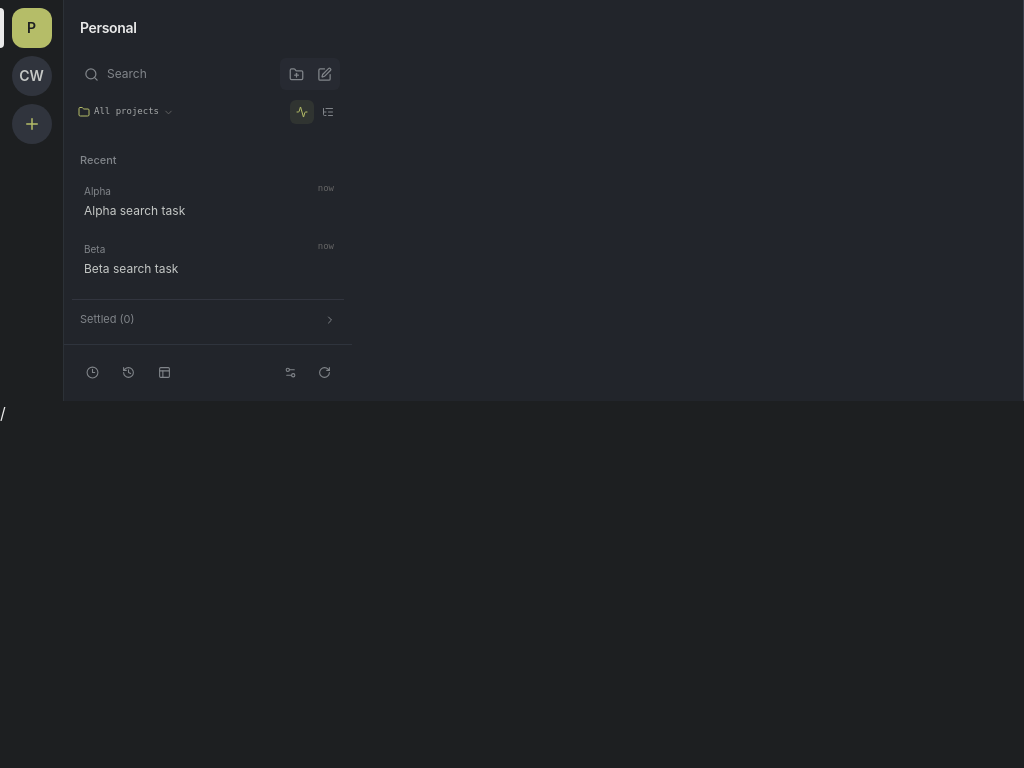
Scenario: profile rail › keeps the dialog open with the server error when creation fails
Click the button named "Create a profile": (32, 124) [12,104,52,144]
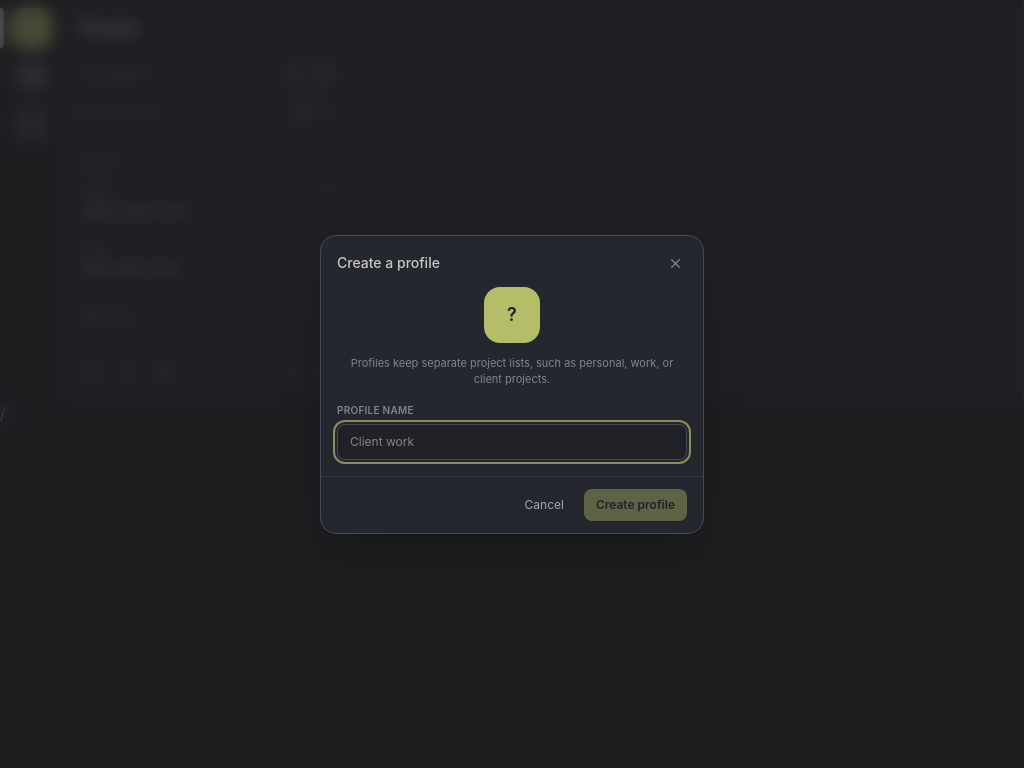
In the field labelled "Profile name": (512, 442) [337,424,687,460], type "Personal"
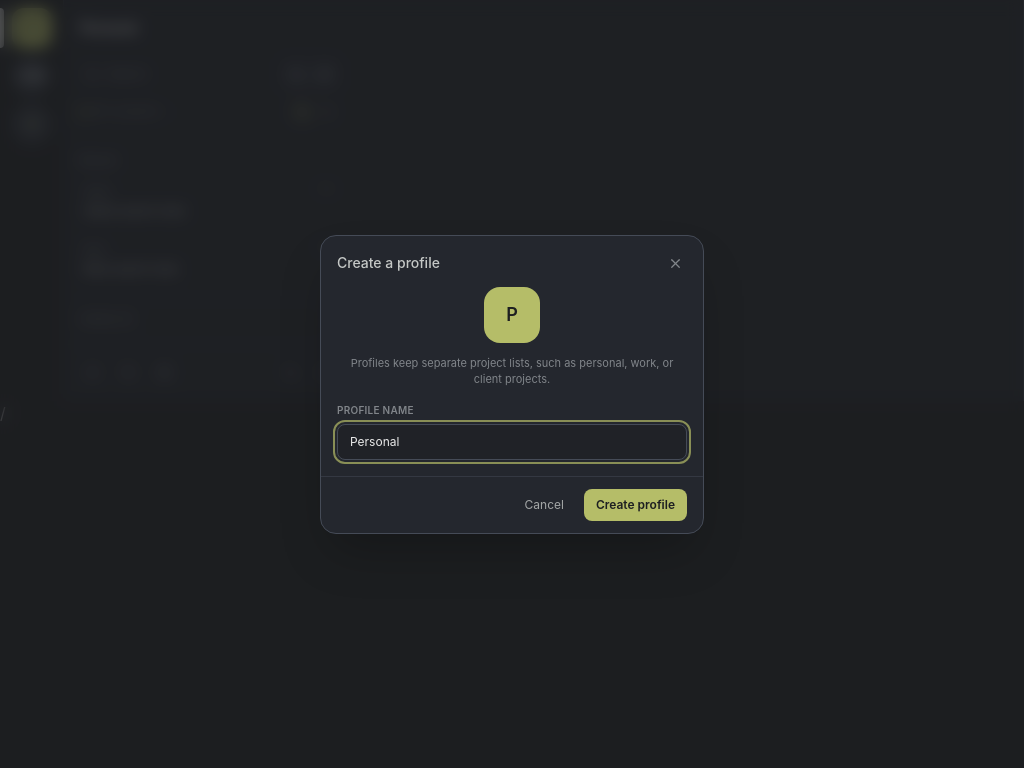
Submit the form from the field labelled "Profile name", box [337,424,687,460]
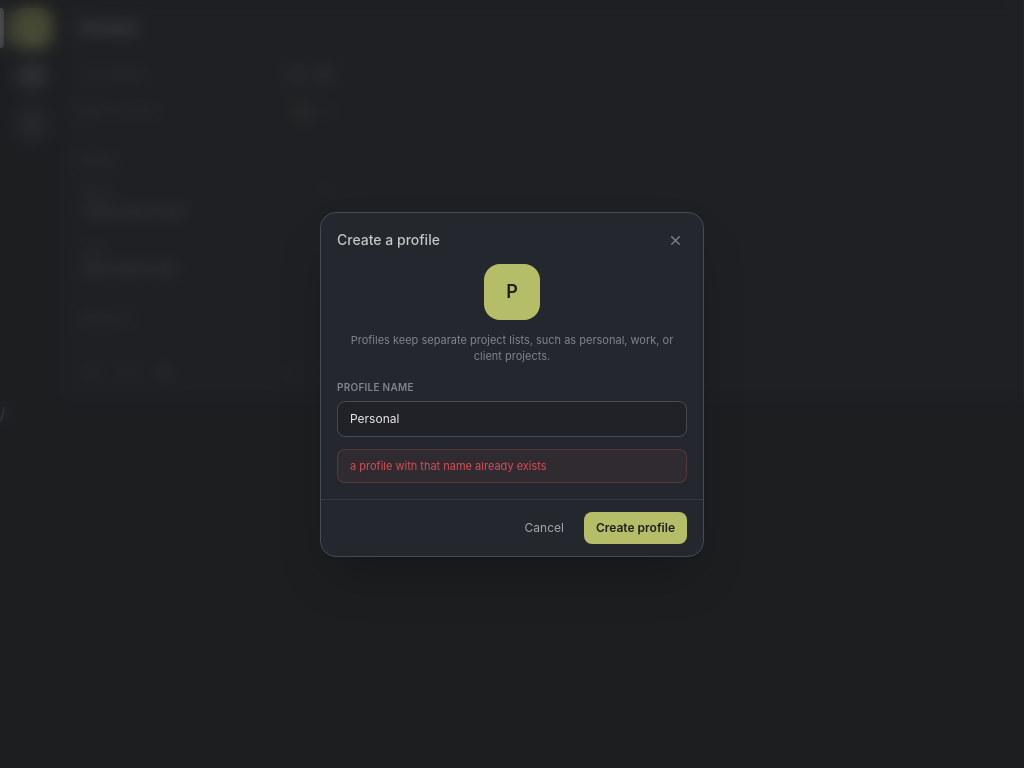
expect the message reads "a profile with that name already exists": met, box [350,458,547,472]
